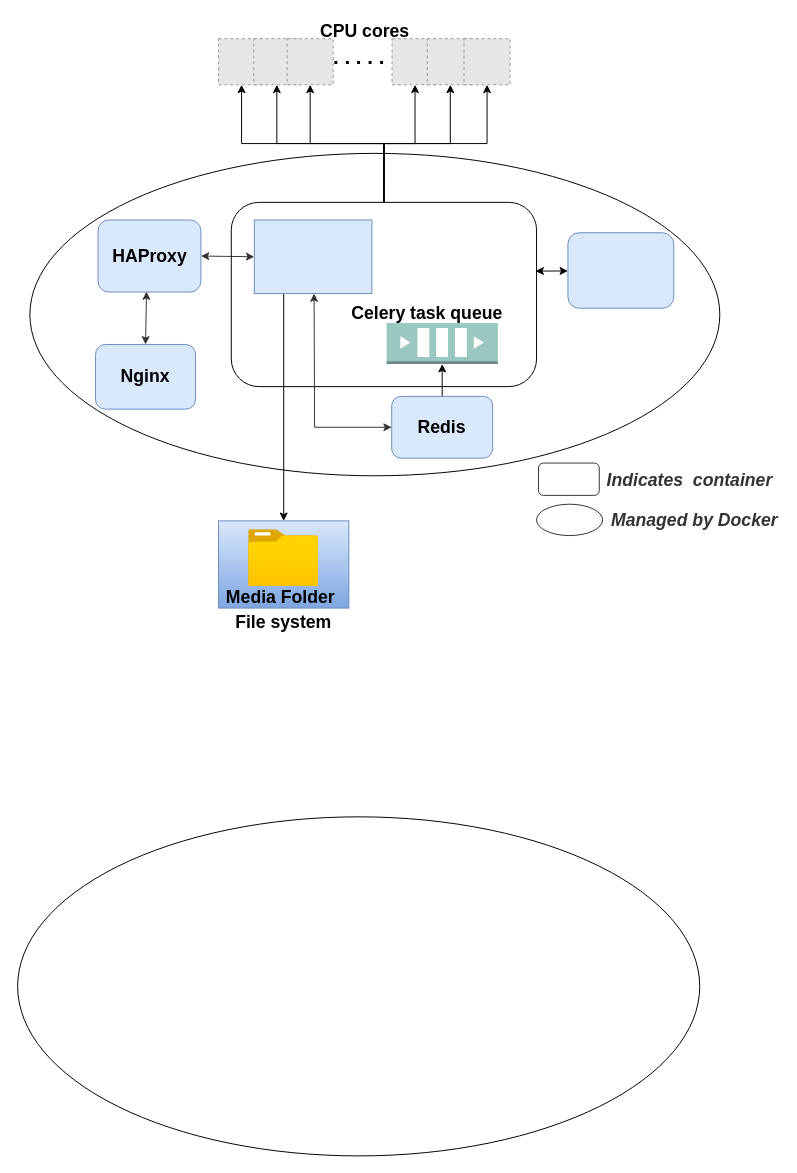
Image size: 797x1173. Some labels were removed from this diagram. Grey dashed boxes stand in for pictures. Each missing label, with the box of its shape:
Postgres DB: (567, 232, 674, 308)
WSGI: (253, 219, 372, 294)
